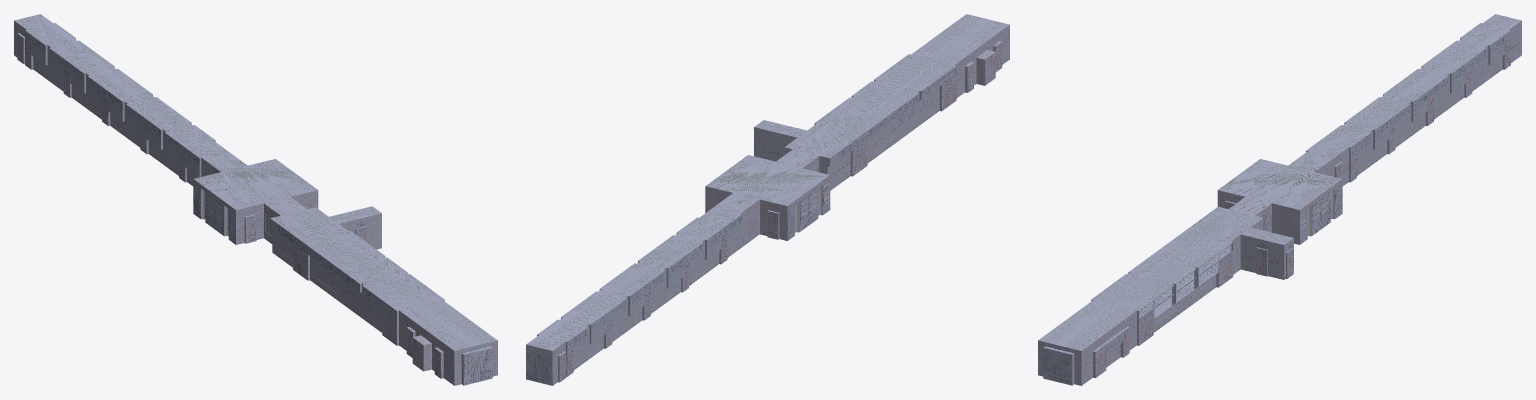
Rendered from Isistanint.obj.
The picture shows the model from 3 angles, left to right: view 1: azimuth 30°, elevation 25°; view 2: azimuth 150°, elevation 25°; view 3: azimuth 330°, elevation 25°; orthographic projection.
Parts seen in each view (by area): view 1: Mesh3 Model; view 2: Mesh3 Model; view 3: Mesh3 Model.
Boxes of the visible parts, x1=… form: Mesh3 Model: x1=14, y1=14, x2=497, y2=385; Mesh3 Model: x1=526, y1=14, x2=1009, y2=385; Mesh3 Model: x1=1038, y1=14, x2=1521, y2=385.
Bounding box in the file's own units: 832 × 258 × 6039.
